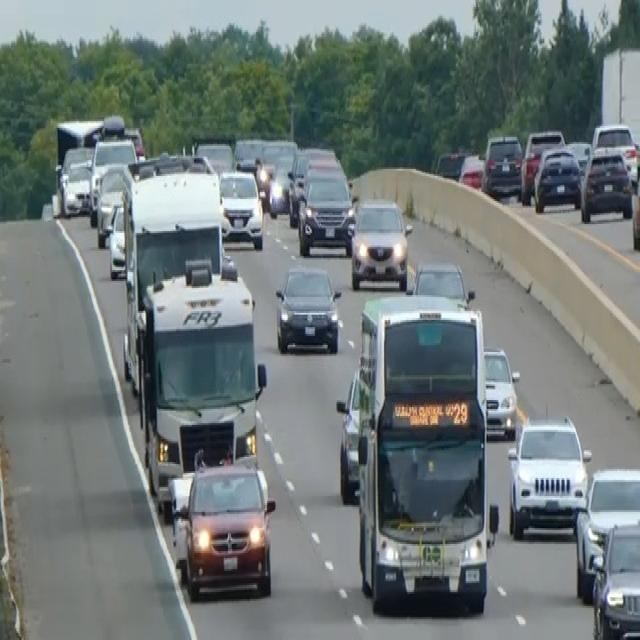bus: (354, 290, 494, 615), (135, 256, 266, 503), (120, 162, 224, 394)
car: (506, 412, 591, 538), (573, 464, 639, 603), (274, 261, 341, 354), (349, 194, 412, 290), (590, 516, 639, 638), (296, 160, 355, 256), (88, 135, 137, 224), (579, 146, 632, 222), (287, 144, 335, 226), (218, 165, 264, 249), (335, 366, 362, 503), (482, 343, 520, 439), (533, 144, 582, 213), (520, 128, 565, 203), (410, 258, 475, 308), (591, 121, 639, 185), (95, 160, 130, 245), (481, 132, 523, 199), (256, 137, 297, 204), (56, 144, 94, 215), (267, 151, 295, 217), (105, 197, 127, 279), (192, 134, 234, 174), (233, 135, 265, 171), (458, 151, 485, 189), (435, 148, 465, 182), (630, 149, 639, 251)
minivan: (171, 451, 276, 601)
